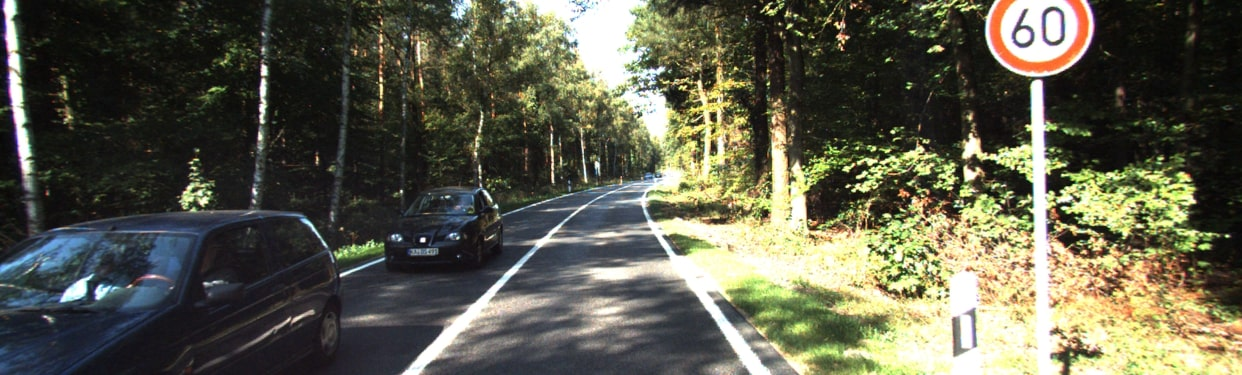car: (1, 199, 352, 372), (379, 183, 509, 272)
